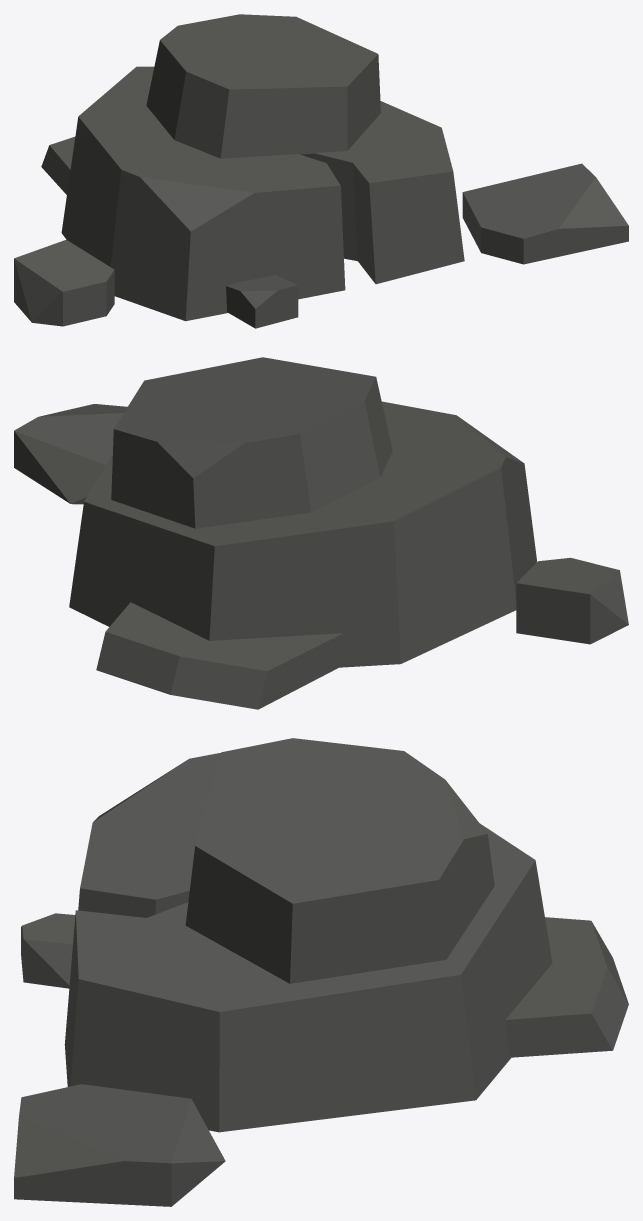
The model's file is SM_Envr_Nature_Rock_Group_07.fbx.
The picture shows the model from 3 angles, top to bottom: view 1: azimuth 30°, elevation 25°; view 2: azimuth 150°, elevation 25°; view 3: azimuth 270°, elevation 25°; orthographic projection. The views are drawn at different scales.
Visible parts, largest first — view 1: SM_Envr_Nature_Rock_Group_07; view 2: SM_Envr_Nature_Rock_Group_07; view 3: SM_Envr_Nature_Rock_Group_07.
Boxes of the visible parts, x1,y1,x2,y2 form: SM_Envr_Nature_Rock_Group_07: (14, 14, 628, 328); SM_Envr_Nature_Rock_Group_07: (14, 357, 628, 709); SM_Envr_Nature_Rock_Group_07: (14, 738, 628, 1206).
Bounding box in the file's own units: 769 × 239 × 560.
